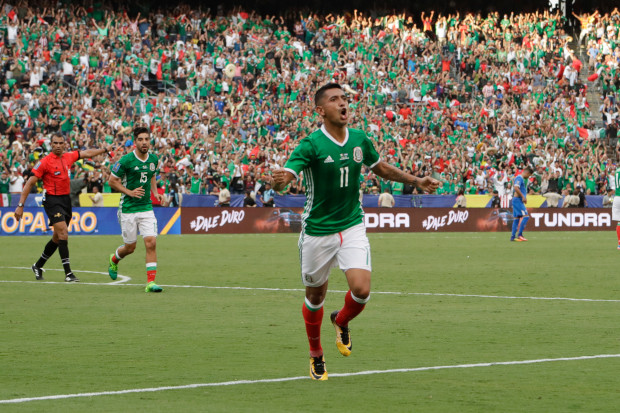referee: (13, 134, 107, 284)
soccer player: (264, 83, 442, 388), (107, 129, 175, 299), (505, 165, 536, 245)
